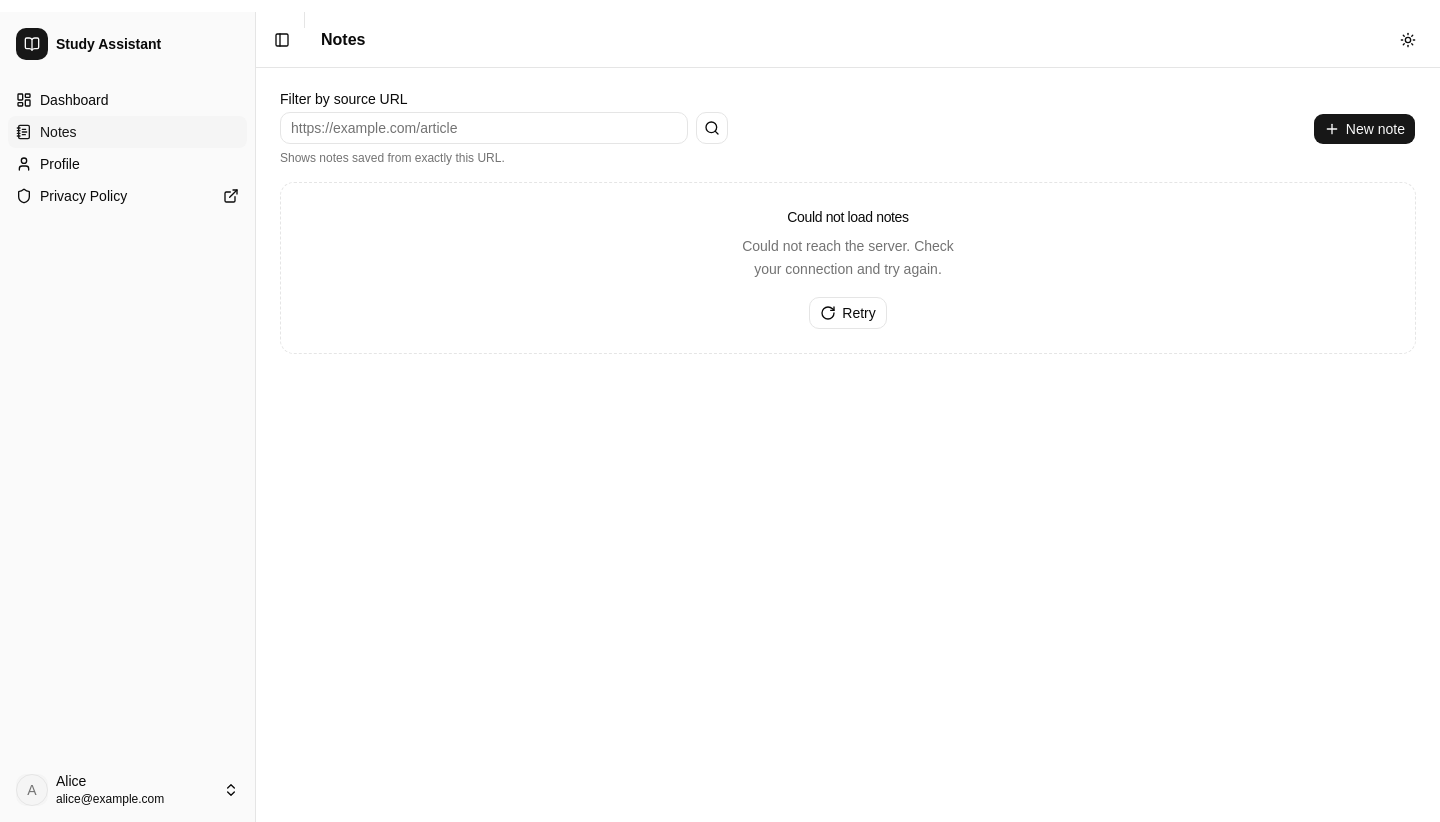
notes page › shows the empty state and an error with retry
This screenshot has width=1440, height=822.
Expected: the message shows "Could not reach the server. Check your connection and try again.", [742, 238, 954, 277]
Click the button "Retry".
click(848, 312)  # box [809, 296, 887, 328]
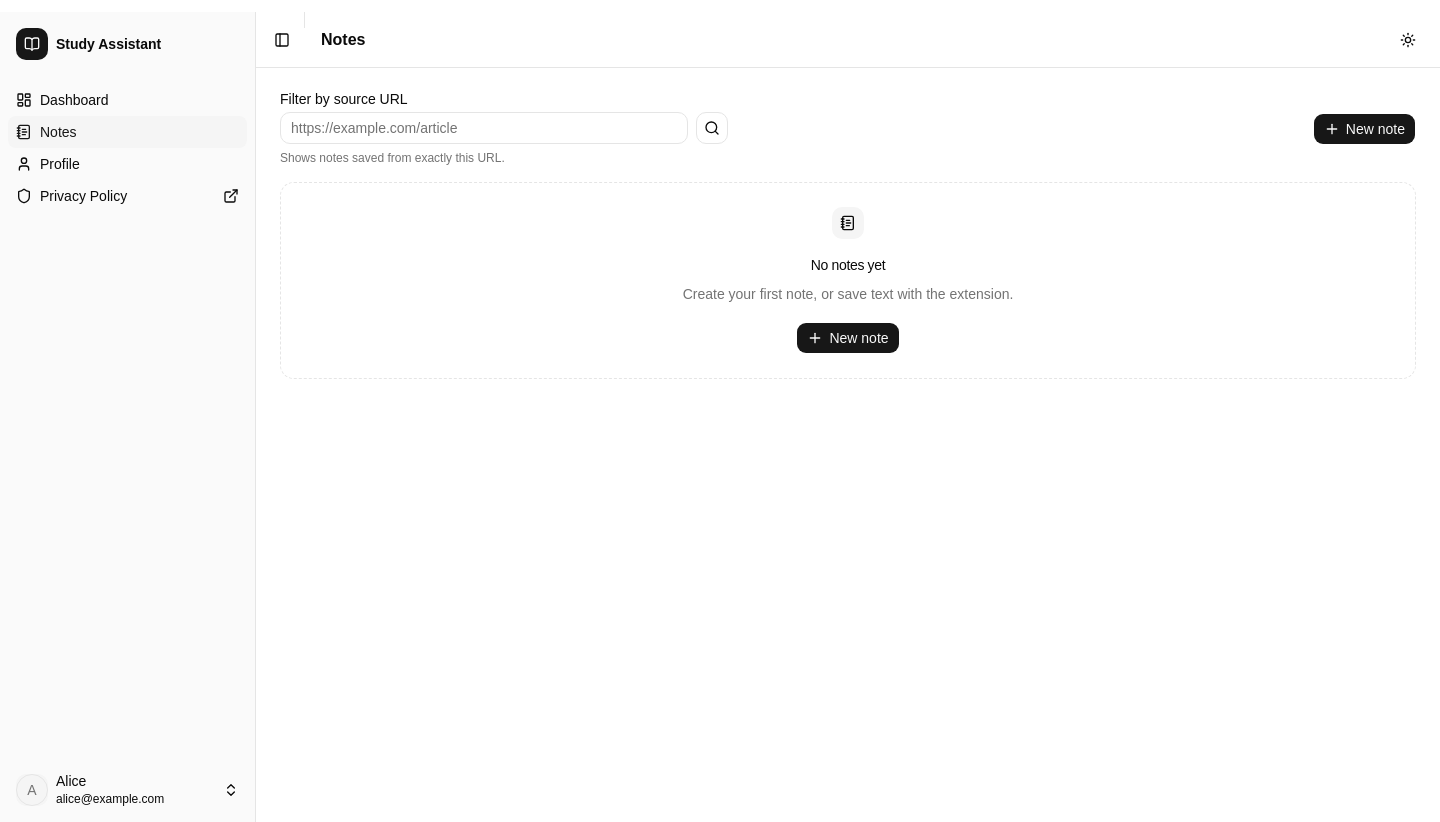
Expected: the text "No notes yet" is shown, [811, 255, 885, 275]
